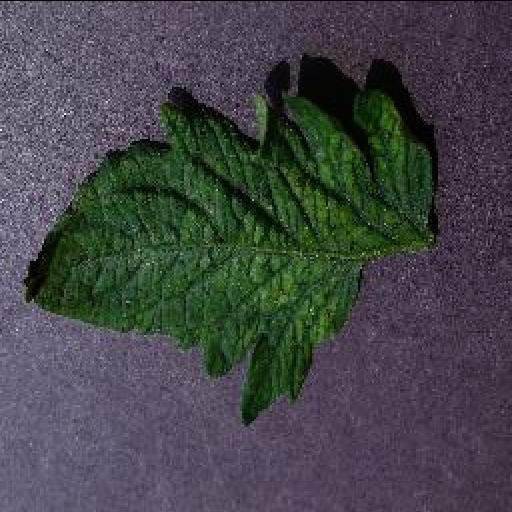disease_tomato: (18, 84, 436, 430)
